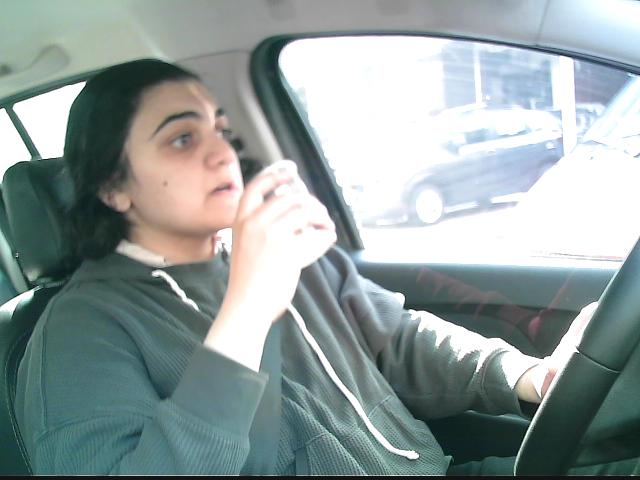Drinking: (232, 157, 341, 266)
